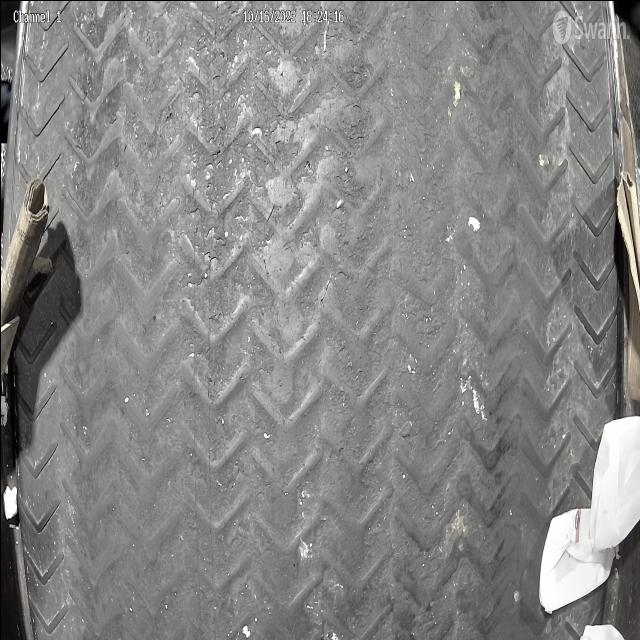milk_jug: (538, 508, 619, 613), (589, 414, 640, 550)
